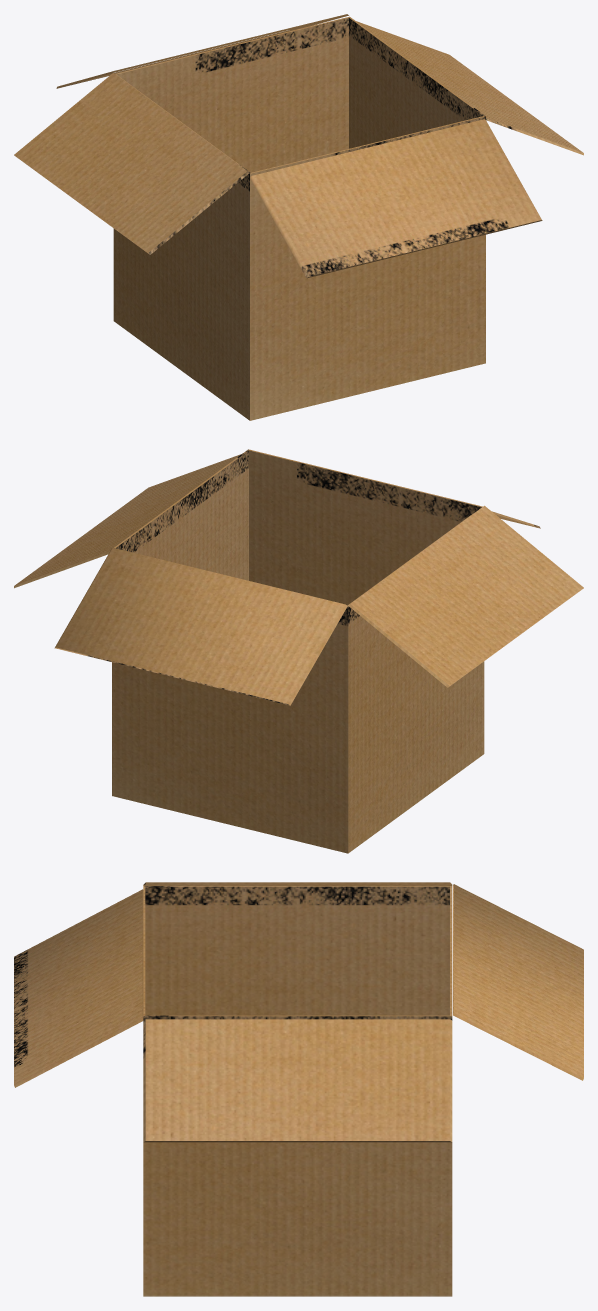
The model's file is street part 5.fbx.
The picture shows the model from 3 angles, top to bottom: view 1: azimuth 30°, elevation 25°; view 2: azimuth 150°, elevation 25°; view 3: azimuth 270°, elevation 25°; orthographic projection. The views are drawn at different scales.
Parts seen in each view (by area): view 1: Object_29; view 2: Object_29; view 3: Object_29.
Boxes of the visible parts, bbox=[...] form: Object_29: bbox=[14, 14, 583, 420]; Object_29: bbox=[14, 449, 583, 853]; Object_29: bbox=[14, 882, 583, 1296].
Bounding box in the file's own units: 72.64 × 39.76 × 72.64.
1 material, 1 textured.
